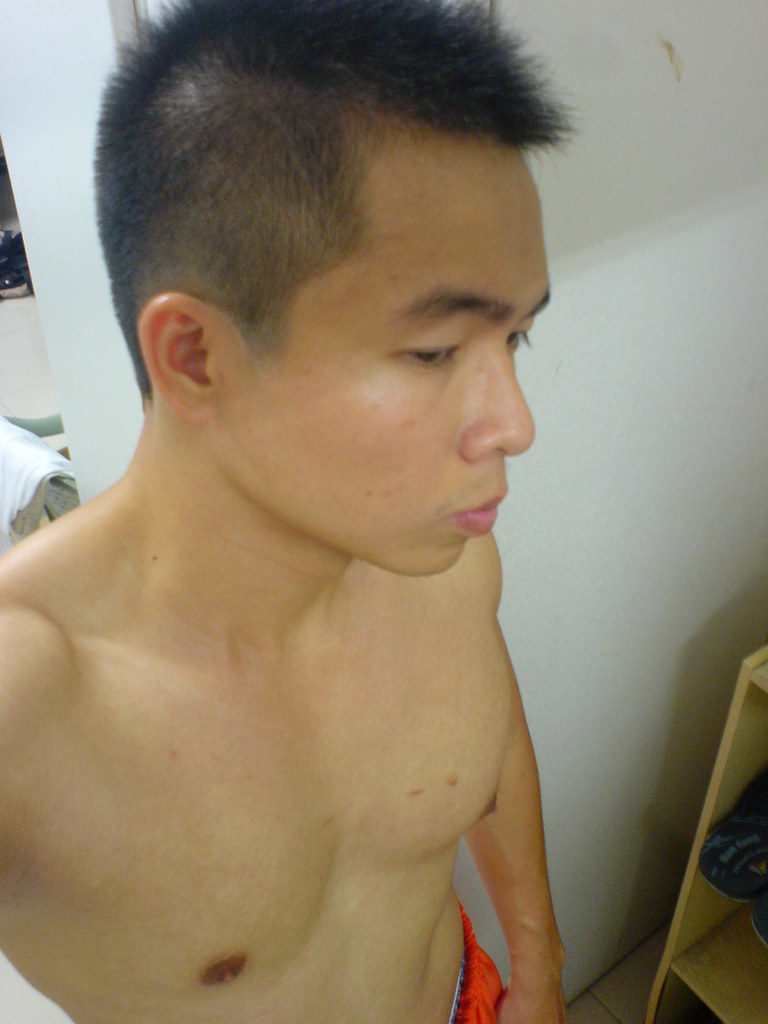Human_hand: (498, 977, 565, 1023)
